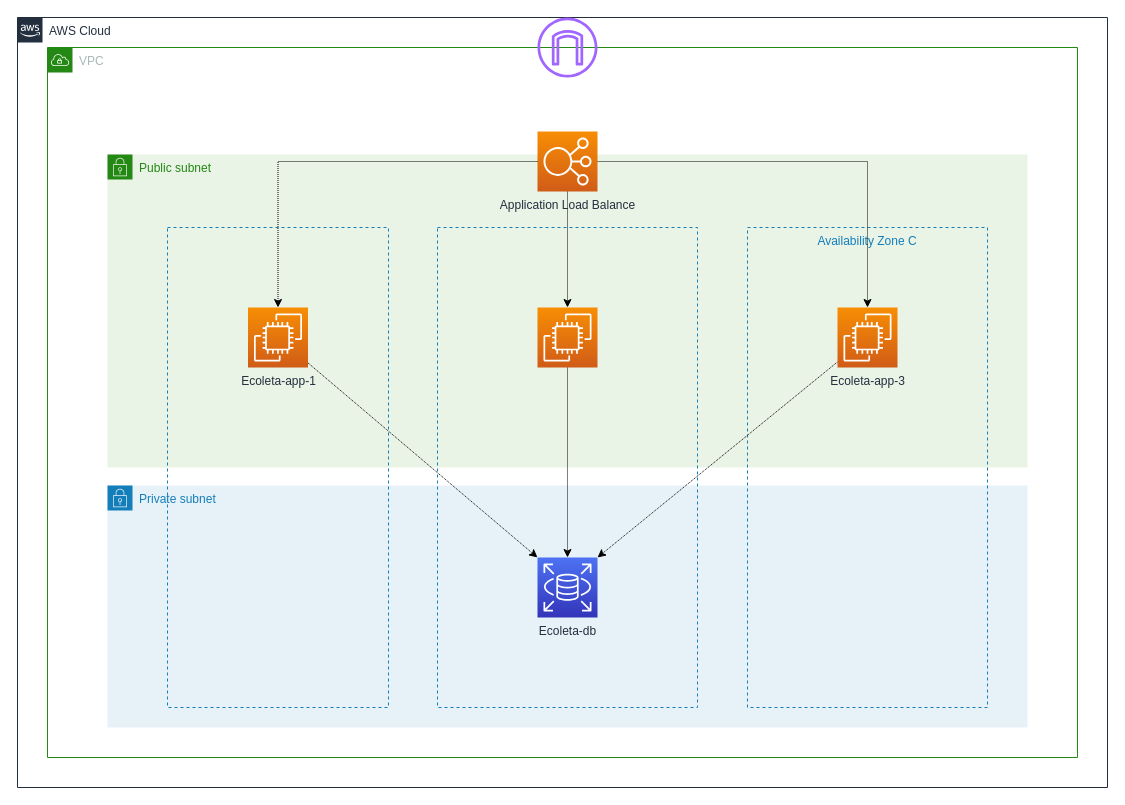
This 1125x805 diagram has some shape labels left out. Here are the shapes that lost their labels. From the top down, the box of each, then its label:
(537, 17, 597, 77): Internet Gateway
(536, 306, 598, 368): Ecoleta-app-2
(166, 226, 388, 708): Availability Zone A
(436, 226, 698, 708): Availability Zone B
